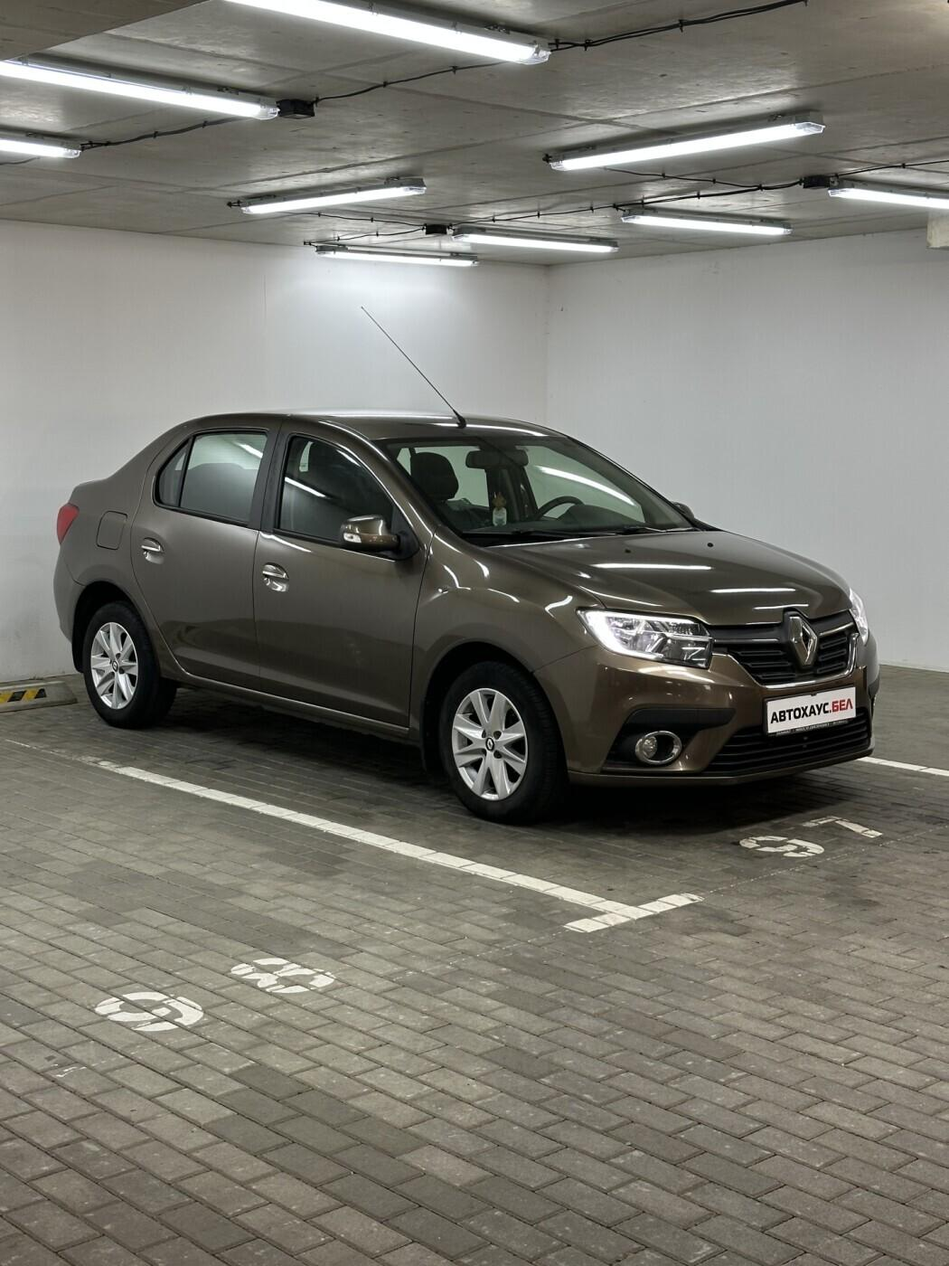Logan_2018: (49, 403, 904, 834)
